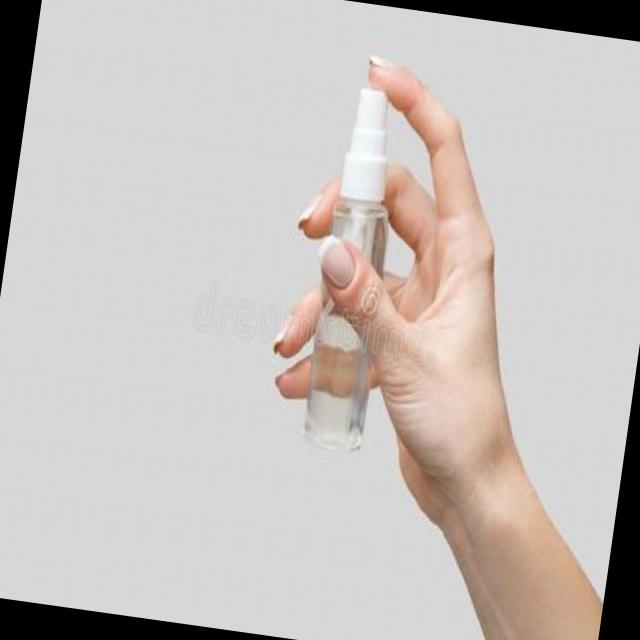sanitizer: (293, 76, 416, 460)
